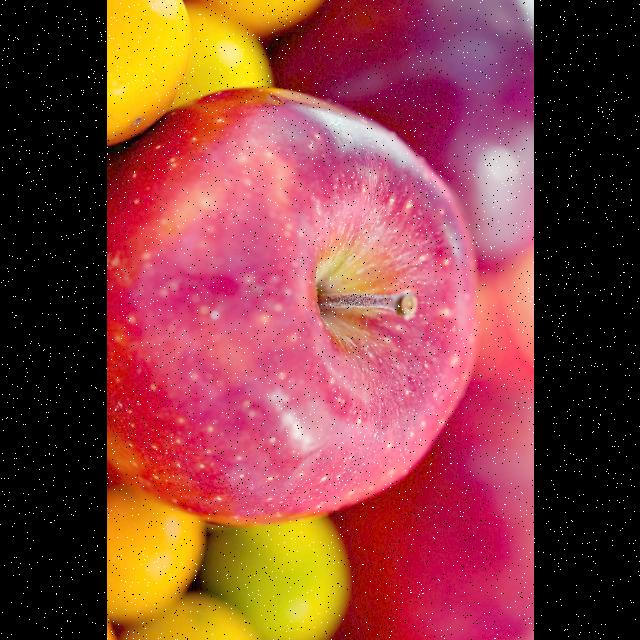Apel Segar: (108, 94, 488, 530)
